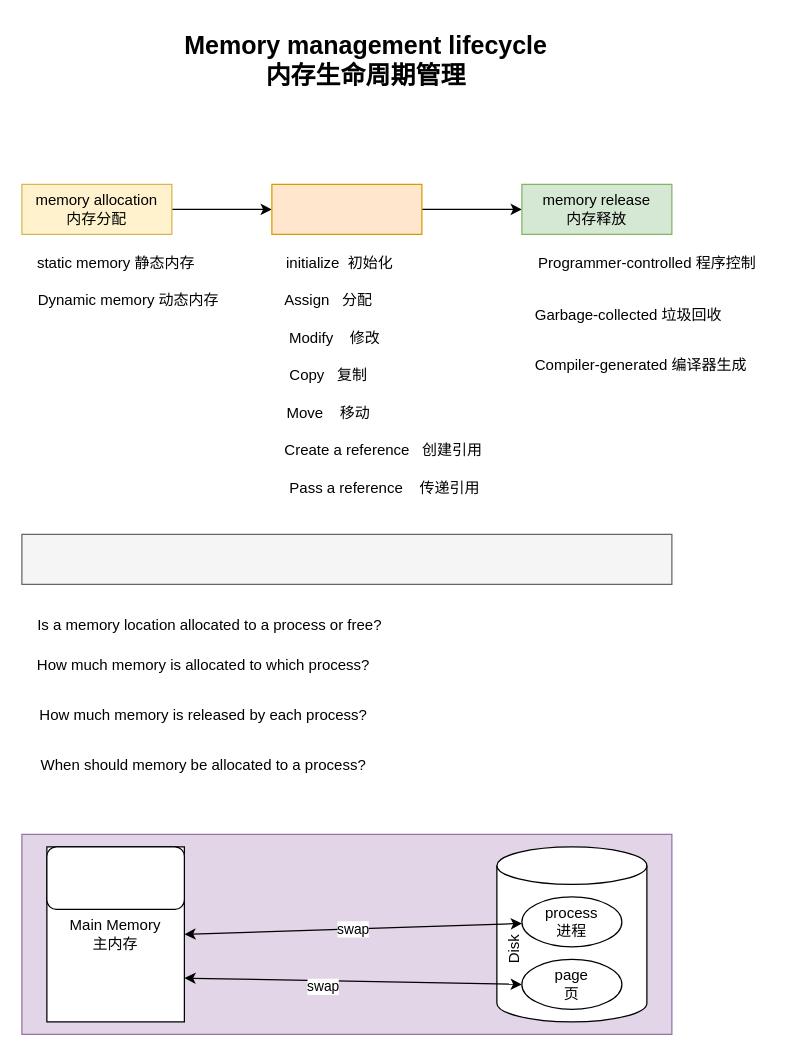
The diagram is 794 pixels wide and 1056 high, and some of its shapes have lost their labels. Each missing label, with the centre of its shape:
"Kernel" goes at [115,877].
"memory use and manipulation 内存使用和操作" goes at [346,208].
"Track memory usage 跟踪内存使用情况" goes at [346,558].
